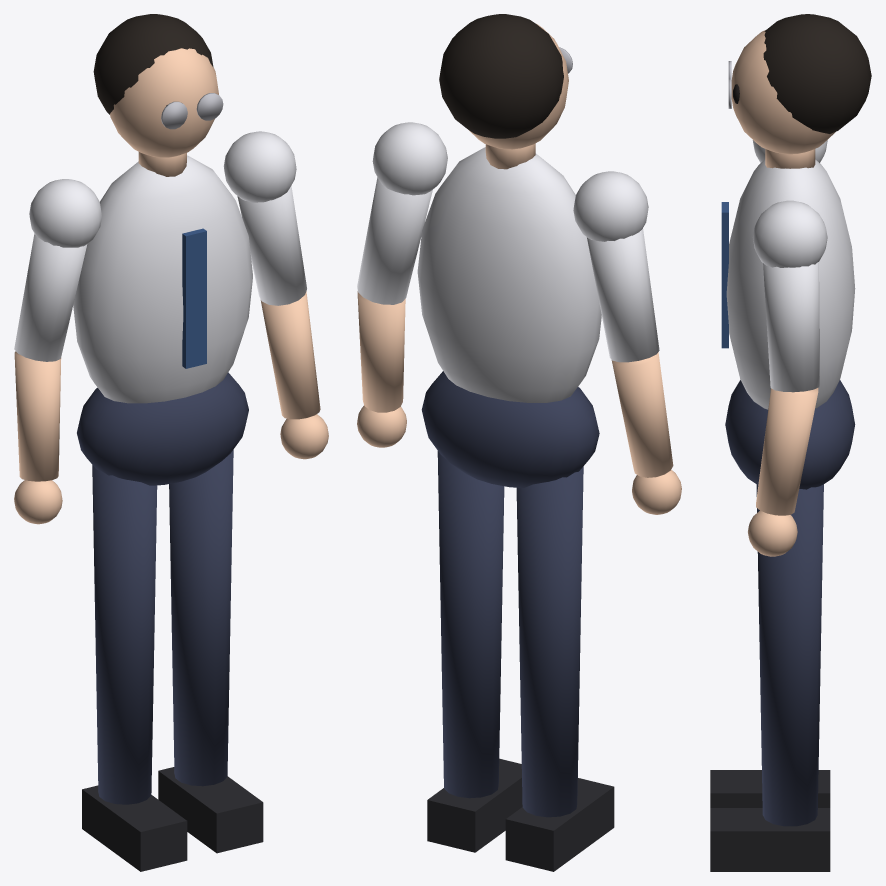
File: teacher.glb
The picture shows the model from 3 angles, left to right: view 1: azimuth 30°, elevation 25°; view 2: azimuth 150°, elevation 25°; view 3: azimuth 270°, elevation 25°; orthographic projection. The views are drawn at different scales.
Parts seen in each view (by area): view 1: teacher; view 2: teacher; view 3: teacher.
Part boxes in pixels (x1,y1,x2,y2): teacher: [14, 14, 328, 871]; teacher: [357, 14, 681, 871]; teacher: [710, 14, 871, 871].
Size of the model in its own units: 0.7175 by 1.78 by 0.3175.
